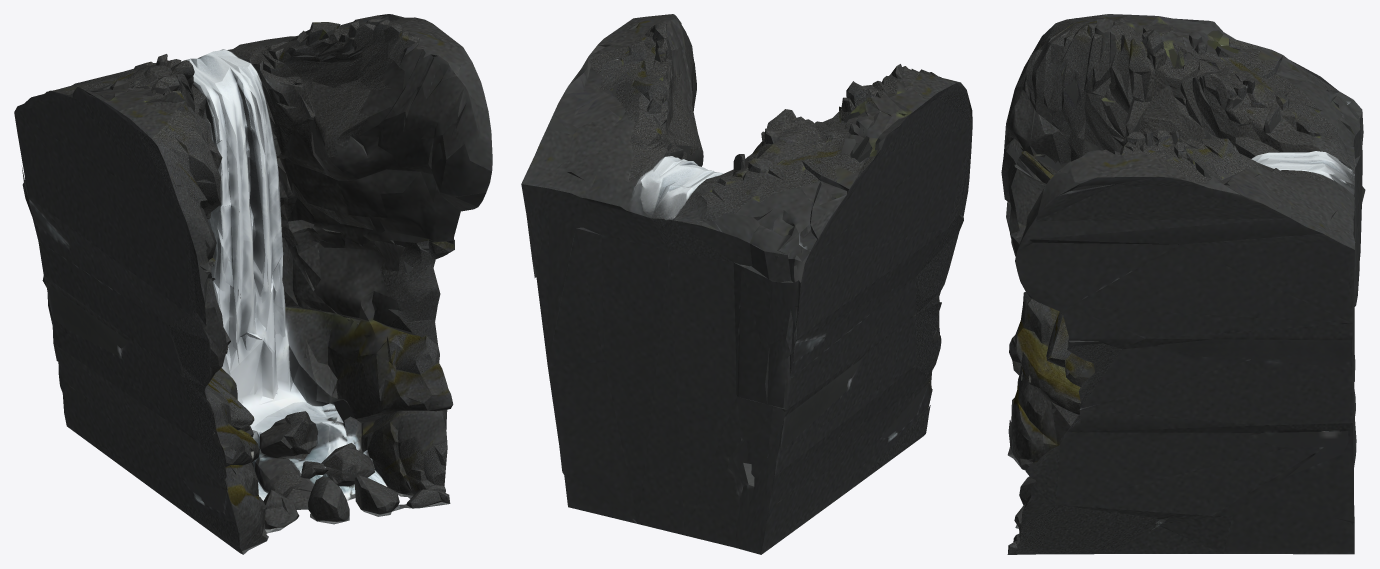
File: lm_falls.glb
3 views of the same model, side by side, from view 1: azimuth 30°, elevation 25°; view 2: azimuth 150°, elevation 25°; view 3: azimuth 270°, elevation 25° (orthographic). The views are drawn at different scales.
Size of the model in its own units: 1.52 by 1.9 by 1.47.
Materials: 1 (1 with a texture image).
